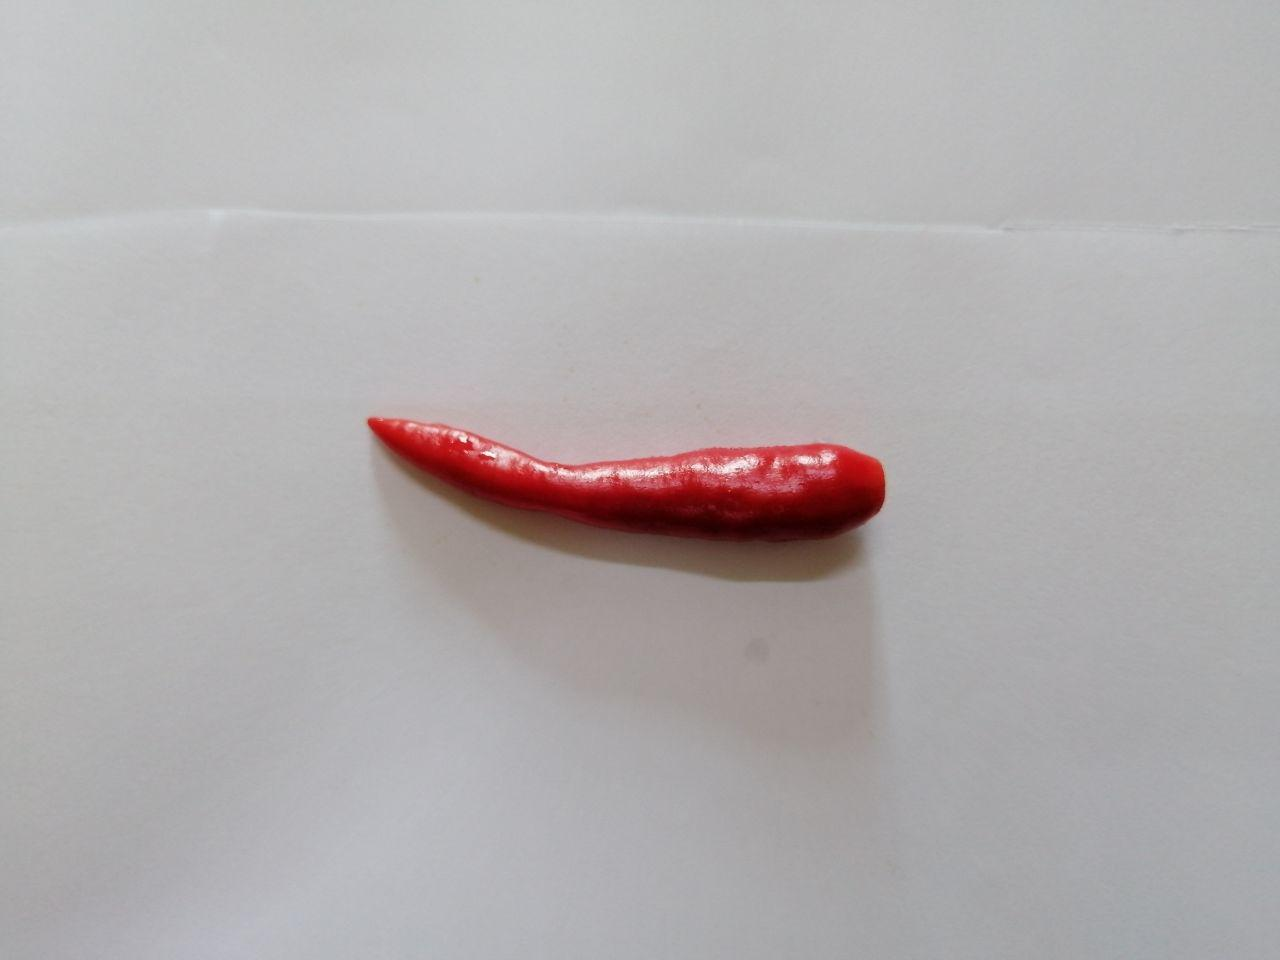lada merah: (346, 381, 915, 584)
